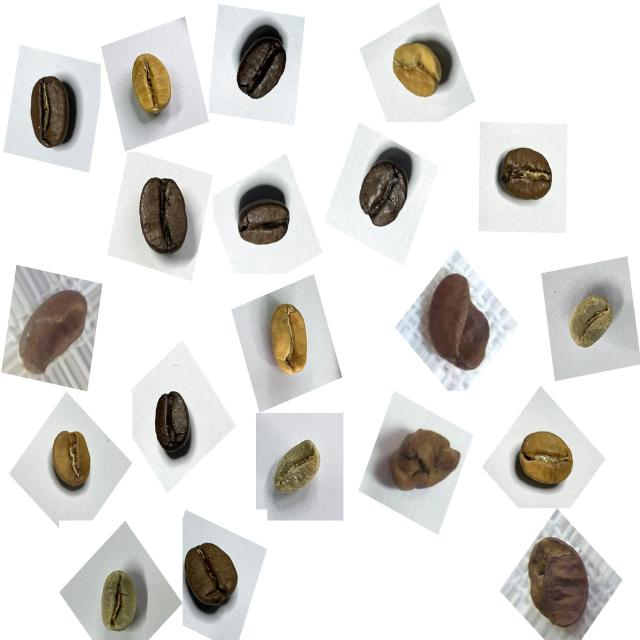bad: (413, 266, 502, 384), (12, 277, 97, 384), (518, 528, 600, 638), (378, 420, 466, 508)
dark: (346, 147, 418, 242), (227, 20, 298, 114), (231, 177, 301, 263), (140, 380, 202, 466)
green: (264, 428, 332, 508), (556, 284, 624, 362), (87, 561, 149, 640)
light: (380, 29, 455, 112), (511, 420, 586, 502), (254, 296, 320, 388), (120, 44, 183, 128), (41, 418, 105, 499)
medium: (18, 65, 88, 158), (182, 530, 250, 620), (491, 137, 565, 216)
